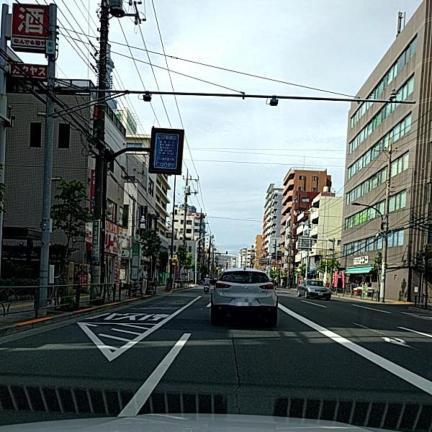Road: (0, 288, 431, 430)
